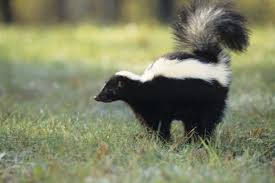skunk: (92, 8, 248, 137)
